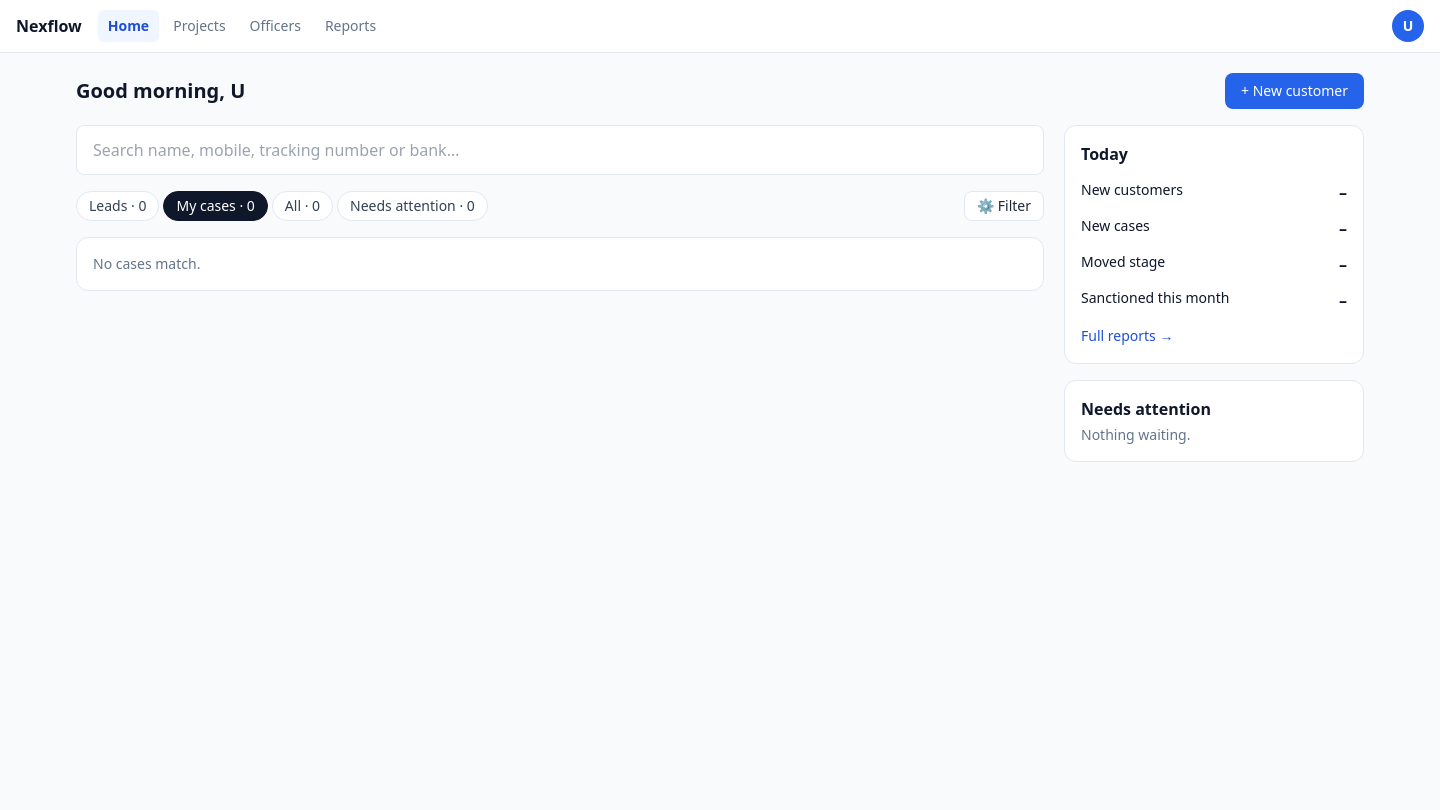
Test: pages by role › Change password posts the current and new password
Click the button named "Account". click: coordinates (1408, 26)
box: [1392,10,1424,42]
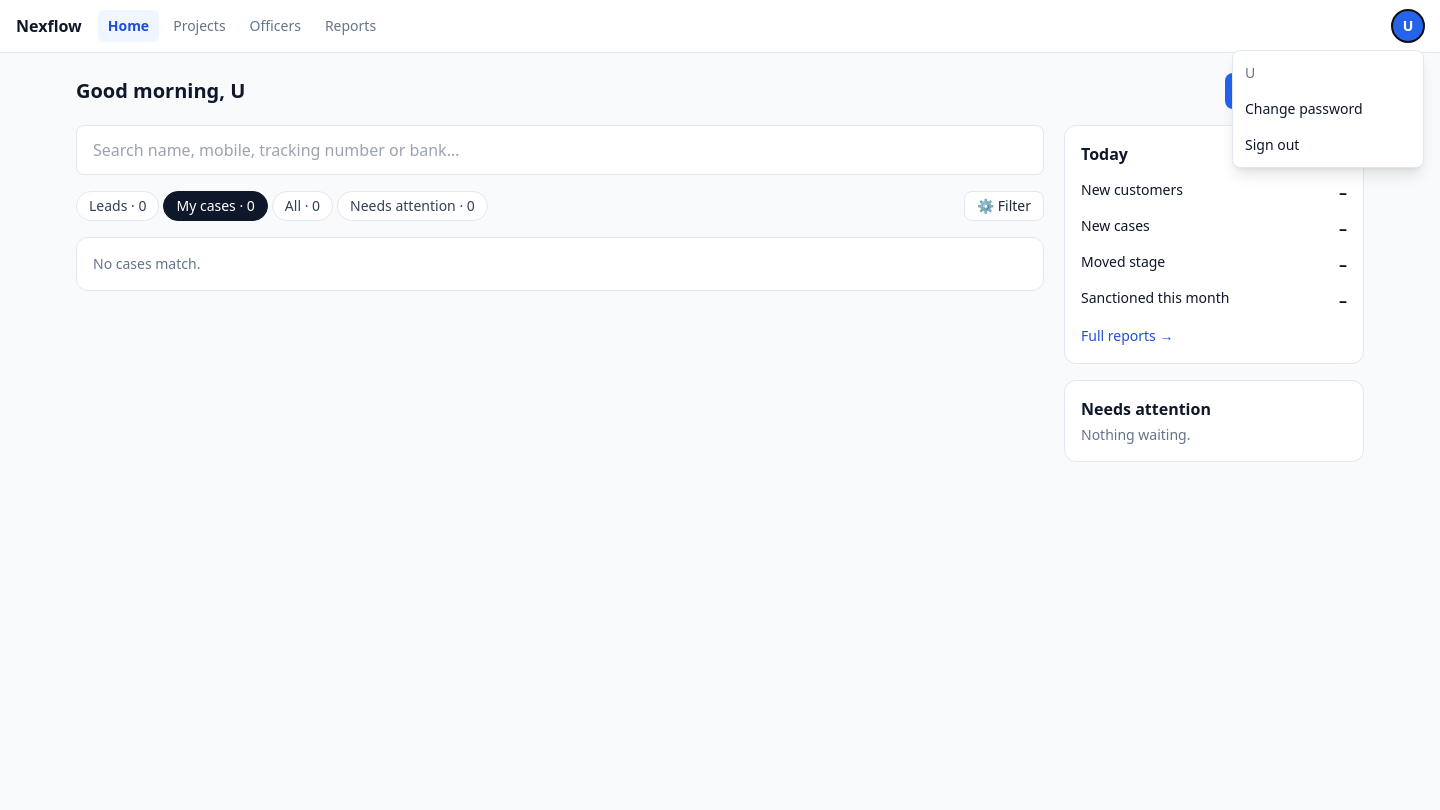
Click the button "Change password". click: coordinates (1328, 109)
box: [1233,91,1423,127]
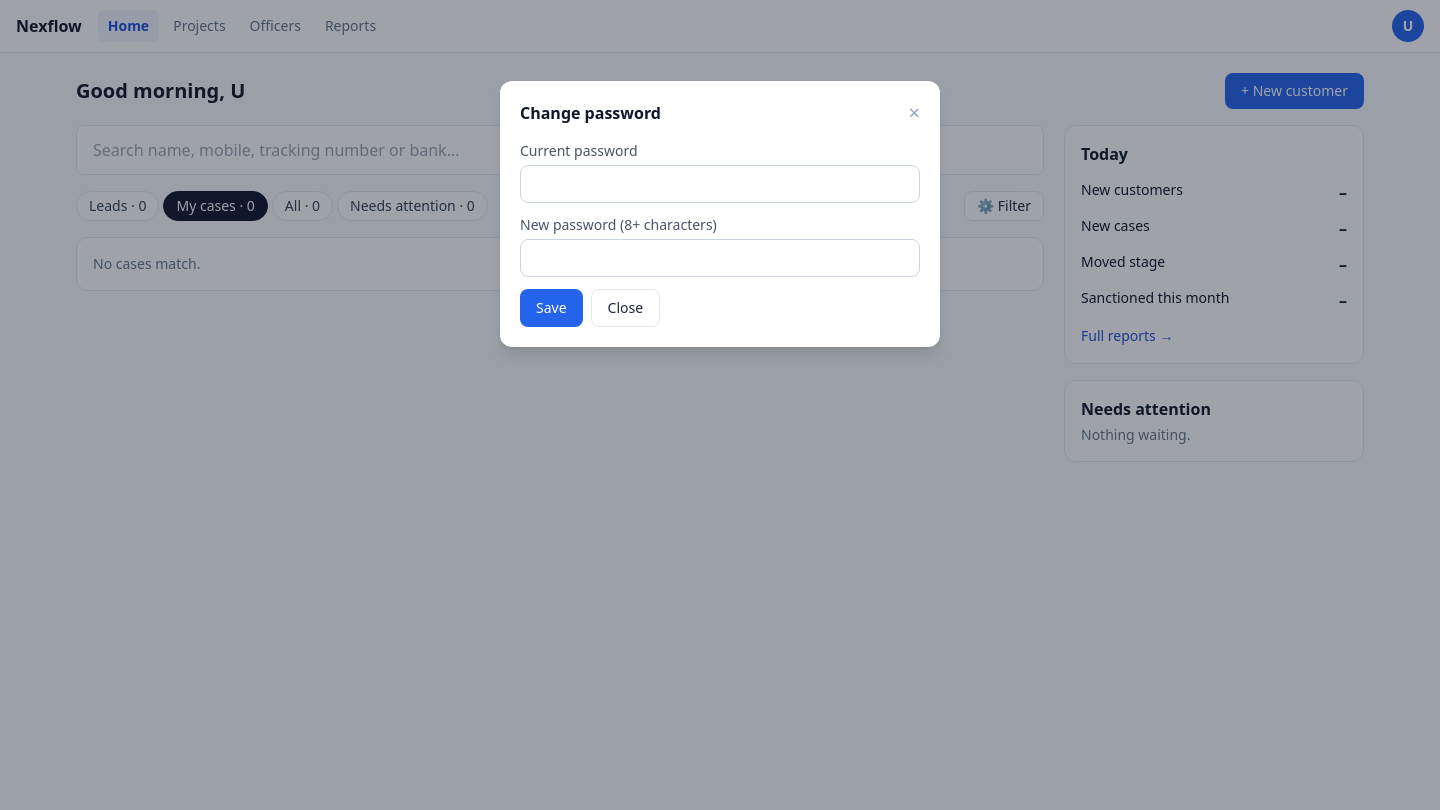
Type "old-password-1" into the password field labelled "Current password". click: coordinates (720, 184)
box: [520,165,920,203]
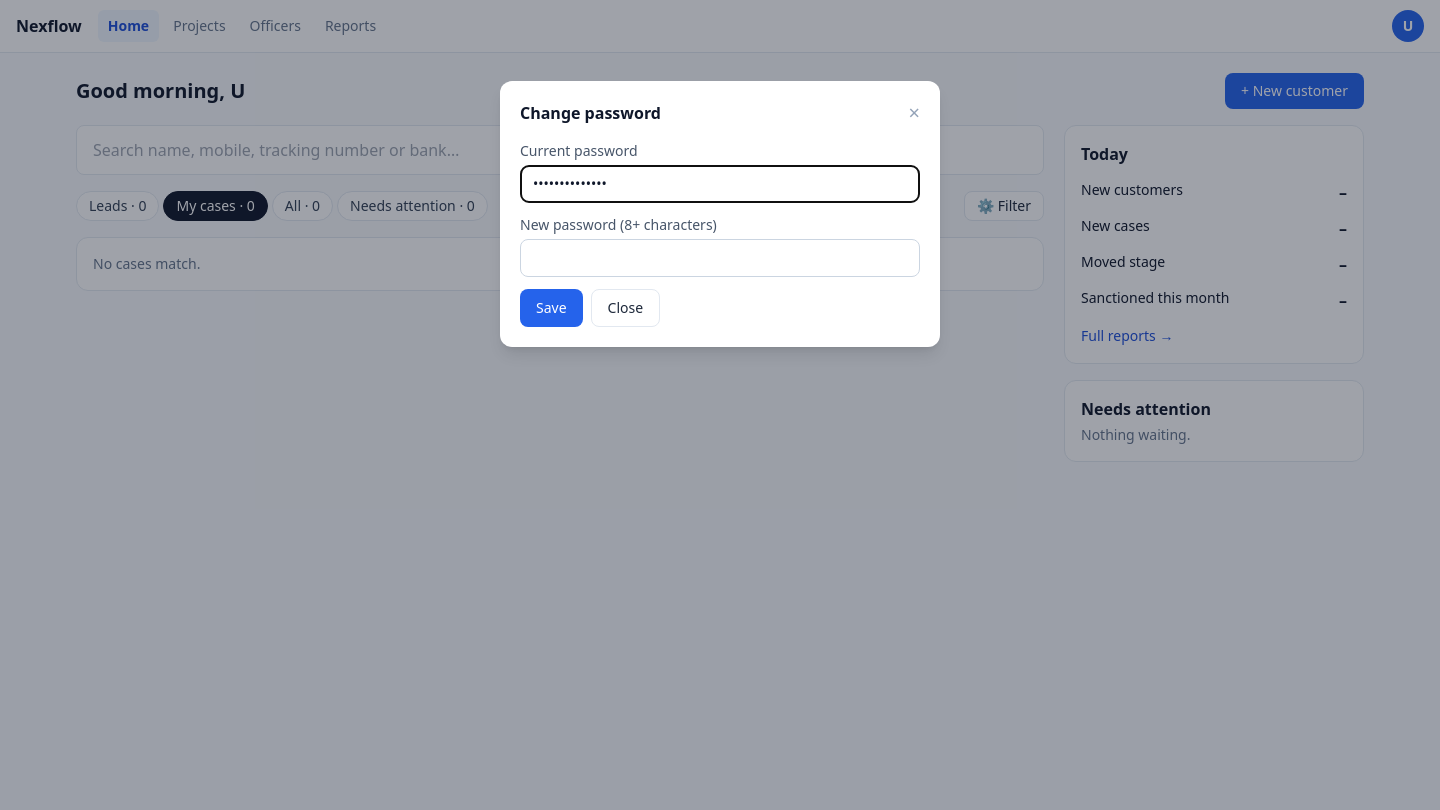
Type "new-password-1" into the password field labelled "New password (8+ characters)". click: coordinates (720, 258)
box: [520,239,920,277]
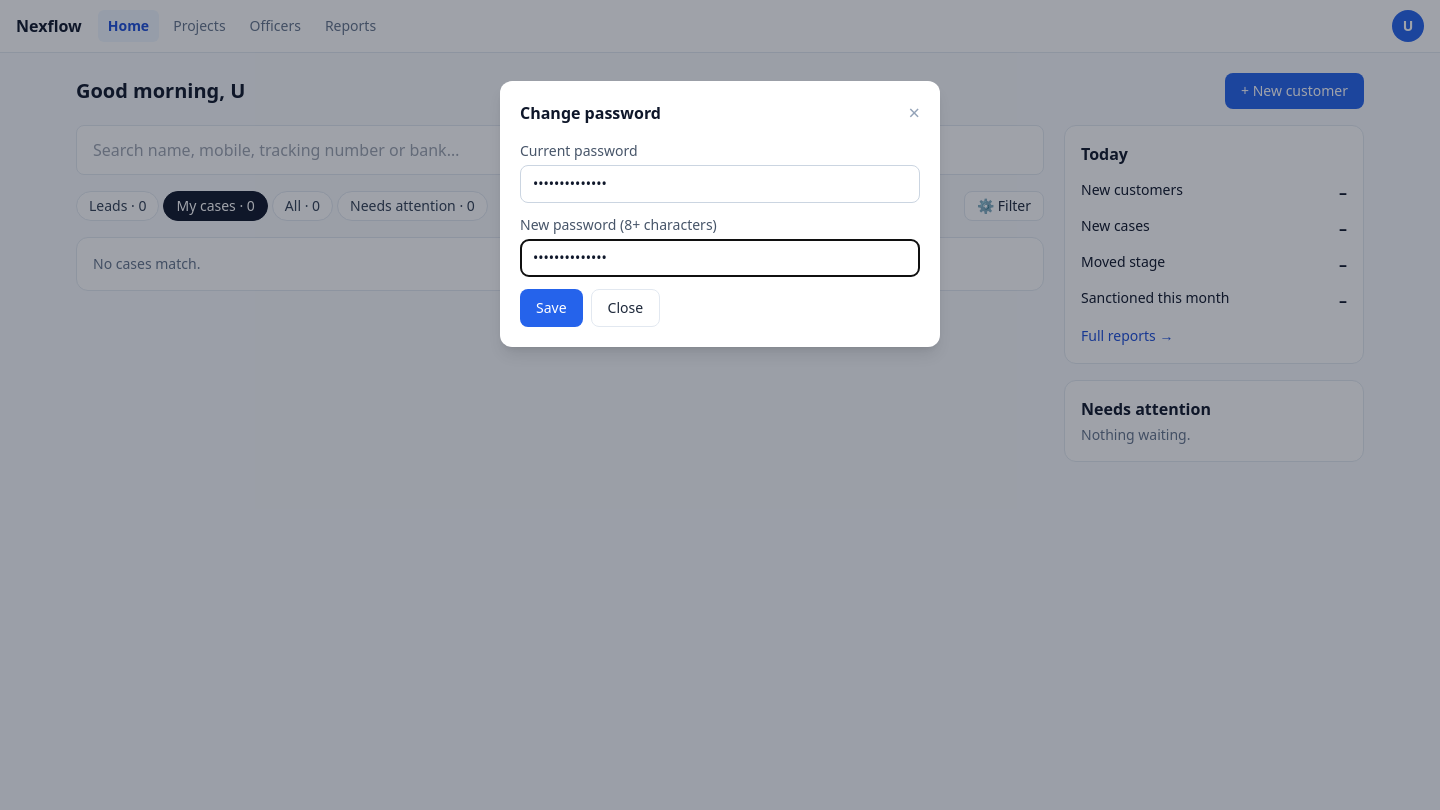
Click the button "Save". click: coordinates (551, 308)
box: [520,289,583,327]
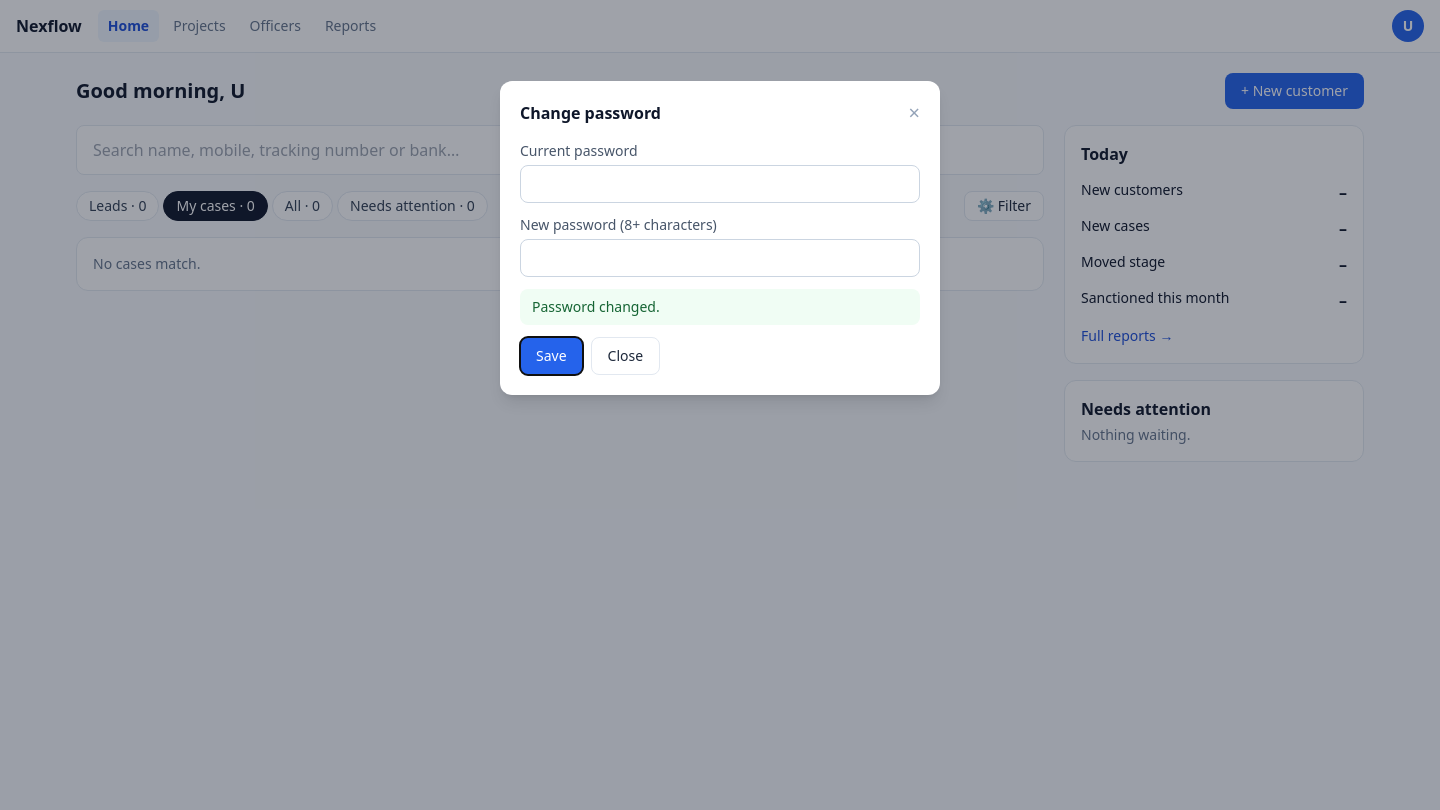
Check: the message reads "Password changed.", box [532,297,660,316]
